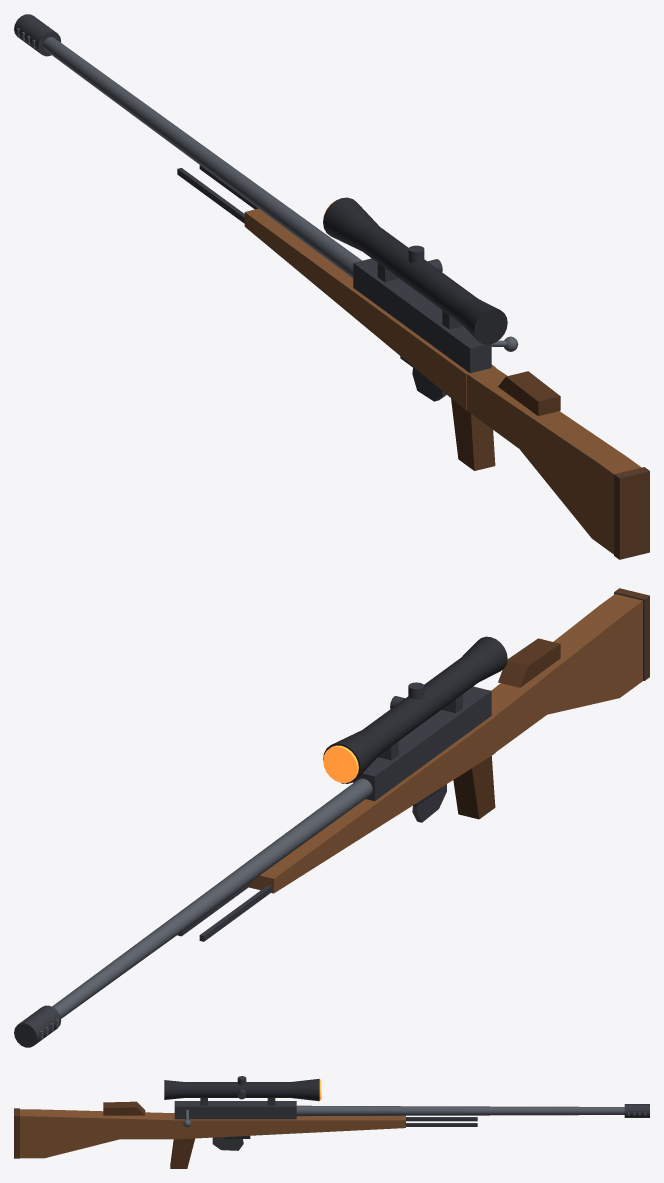
The model's file is sniper.glb.
3 views of the same model, one above another, from view 1: azimuth 30°, elevation 25°; view 2: azimuth 150°, elevation 25°; view 3: azimuth 270°, elevation 25° (orthographic). The views are drawn at different scales.
Parts seen in each view (by area): view 1: body; view 2: body; view 3: body.
Part boxes in pixels (left/top/right/bottom): body: left=14, top=14, right=649, bottom=559; body: left=14, top=588, right=649, bottom=1047; body: left=14, top=1076, right=649, bottom=1168.
Bounding box in the file's own units: 0.0965 × 0.232 × 1.51.
